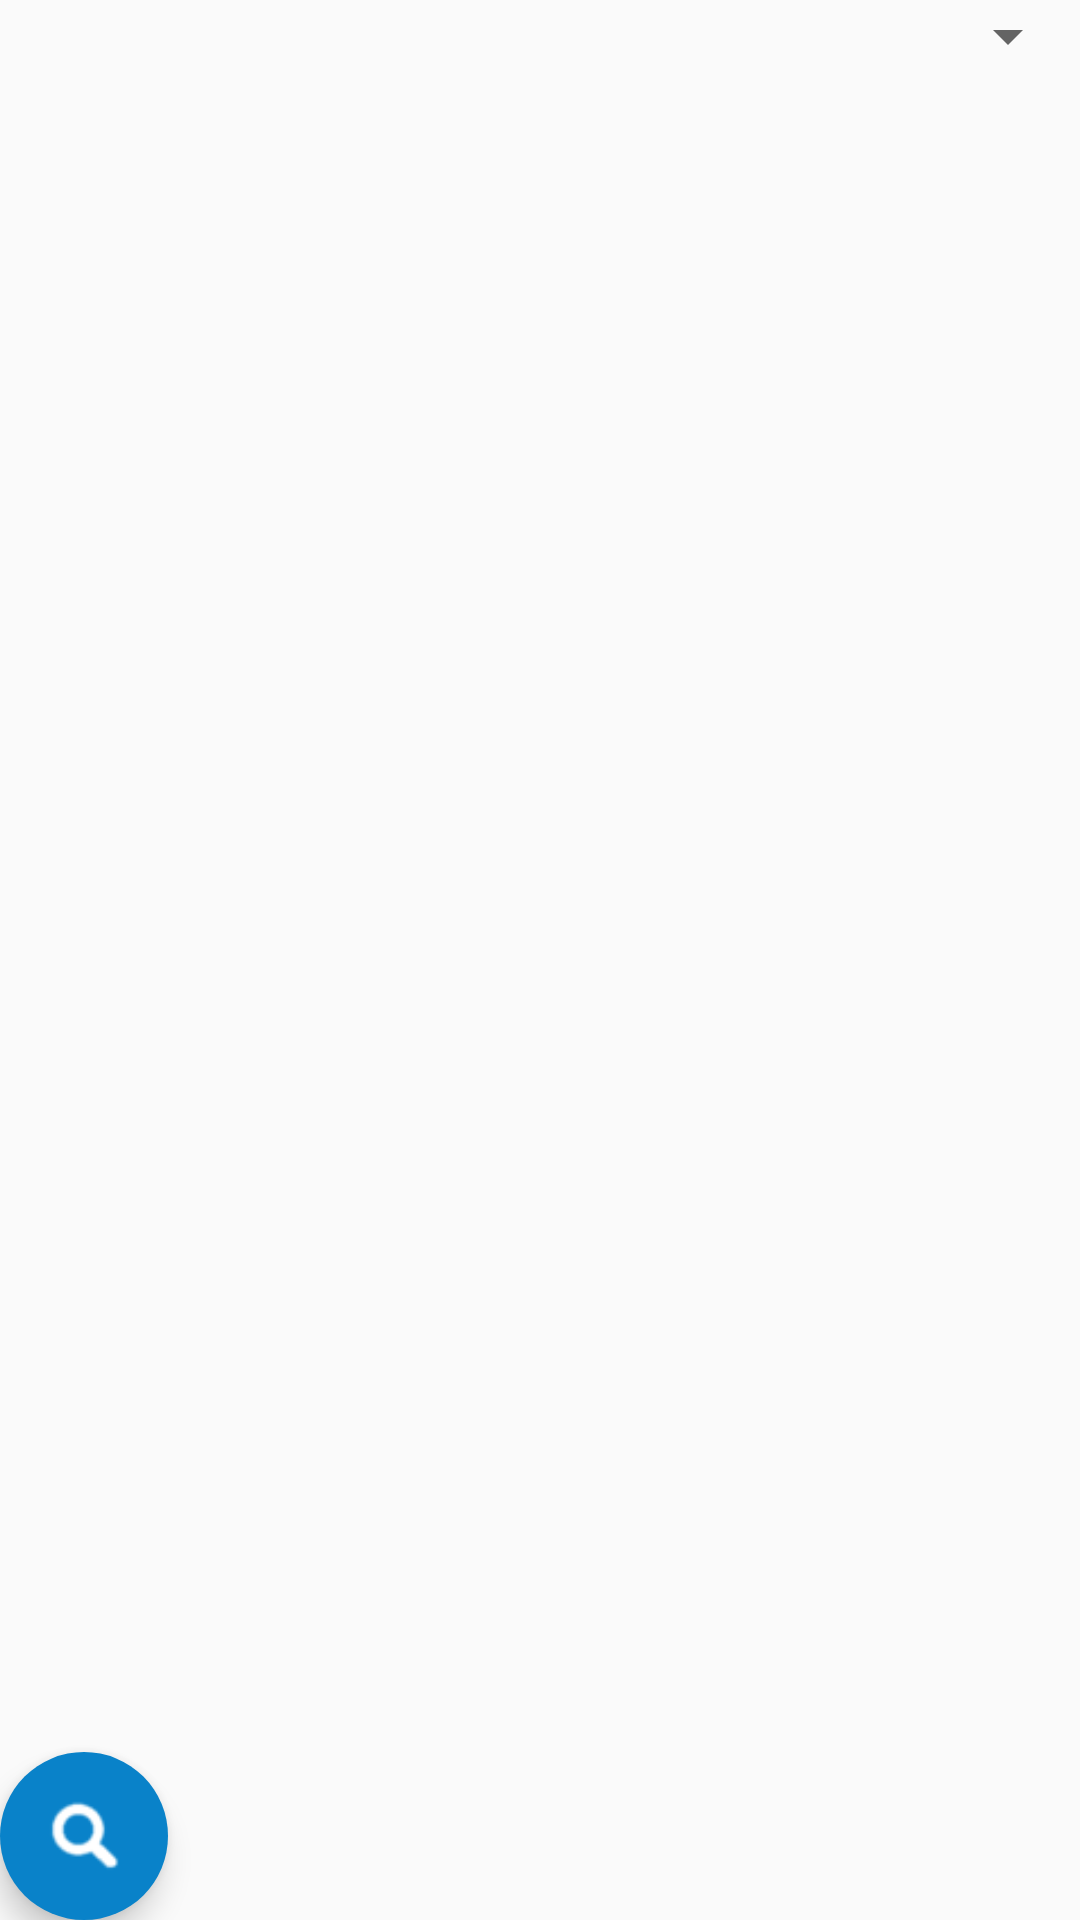

Where to tap for icons on this 1080x1920 app screen, as (x,y):
fab search: (84,1836)
